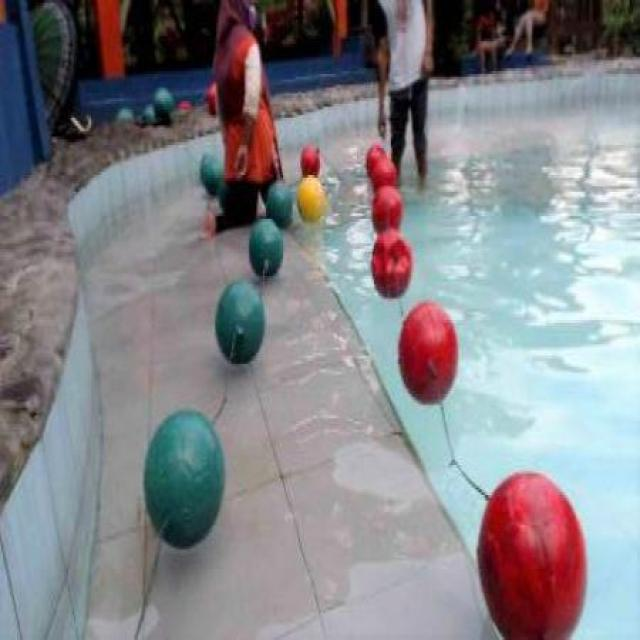buoy: (476, 472, 586, 640), (141, 408, 226, 550), (397, 299, 458, 406), (213, 280, 264, 366), (371, 227, 411, 298), (247, 216, 282, 276), (370, 184, 402, 237), (295, 172, 324, 222), (264, 180, 292, 230), (372, 156, 396, 194), (202, 159, 225, 197), (299, 142, 320, 175), (365, 145, 386, 178)
